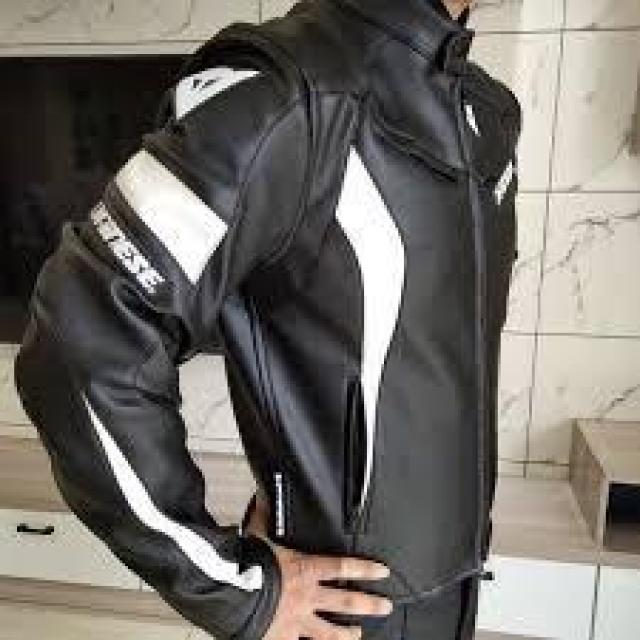jacket: (10, 0, 513, 637)
